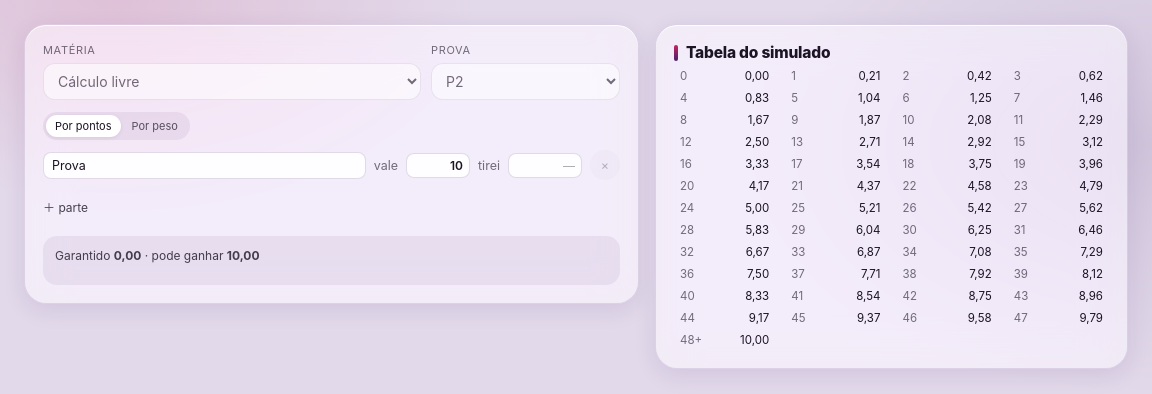
it: Calculadora page › peso mode: message uses %, nota 0-10 converts to points, needs are capped
Step 1. Click the button "Por peso" → (155, 126), box x1=122 y1=115 x2=187 y2=137
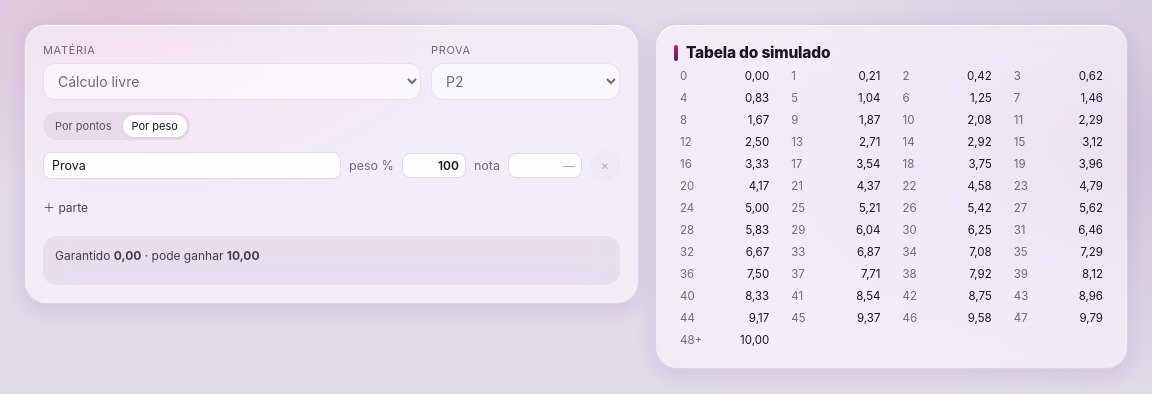
Expected: the field named "Peso da parte 1" holds "100"
Step 2. Replace the text in the field named "Peso da parte 1" with "60" → (434, 165), box x1=402 y1=152 x2=466 y2=178
Step 3. Leave the field named "Peso da parte 1", box x1=402 y1=152 x2=466 y2=178
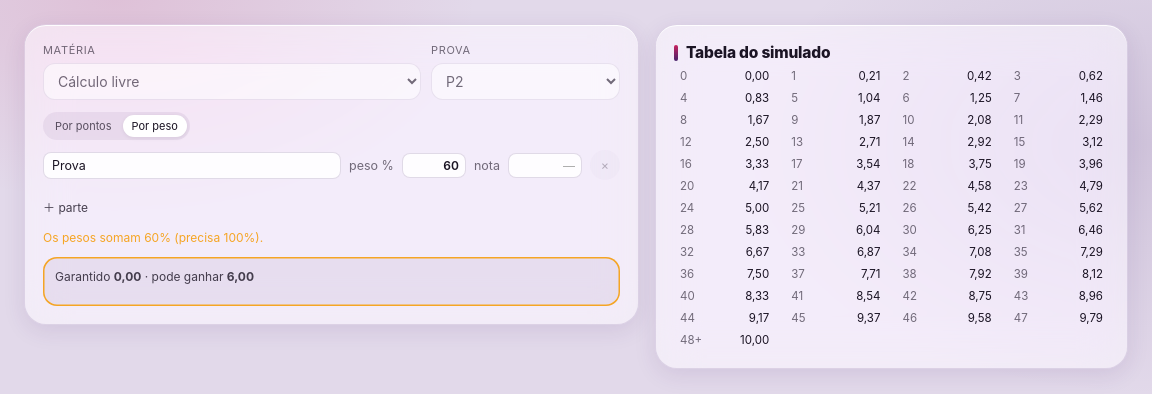
Expected: the message reads "Os pesos somam 60% (precisa 100%).", x1=43 y1=230 x2=263 y2=245
Step 4. Click the button "＋ parte" → (66, 206), box x1=43 y1=188 x2=88 y2=224
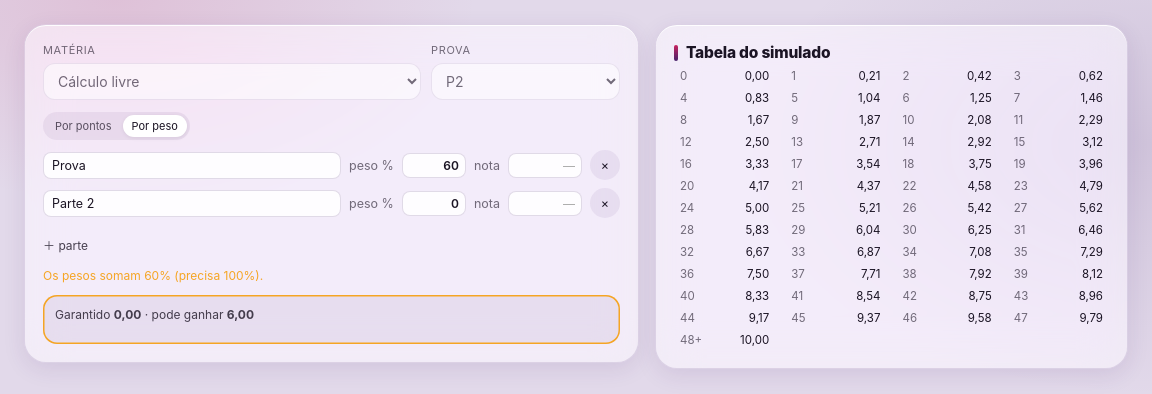
Step 5. Replace the text in the field named "Peso da parte 2" with "40" → (434, 203), box x1=402 y1=190 x2=466 y2=216
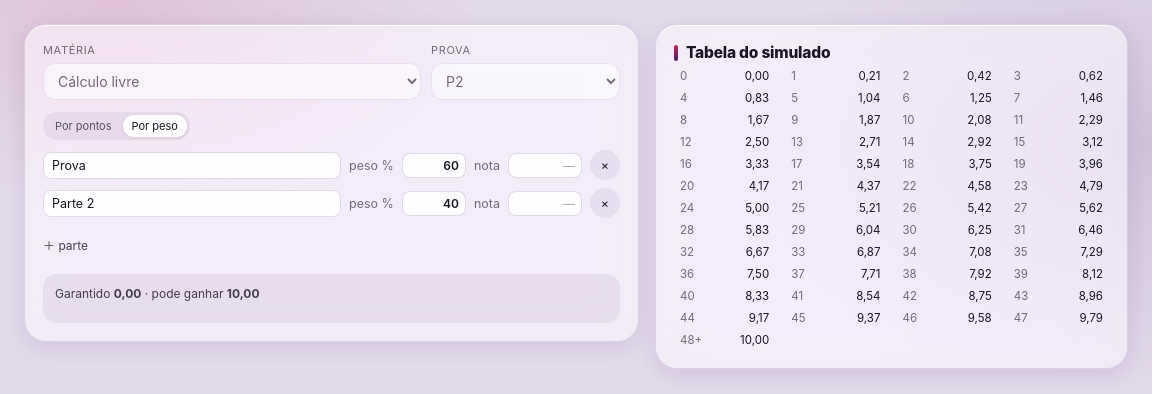
Step 6. Type "5" into the field named "Nota na parte 1" → (545, 165), box x1=508 y1=152 x2=582 y2=178
Step 7. Type "15" into the field named "Nota na parte 2" → (545, 203), box x1=508 y1=190 x2=582 y2=216
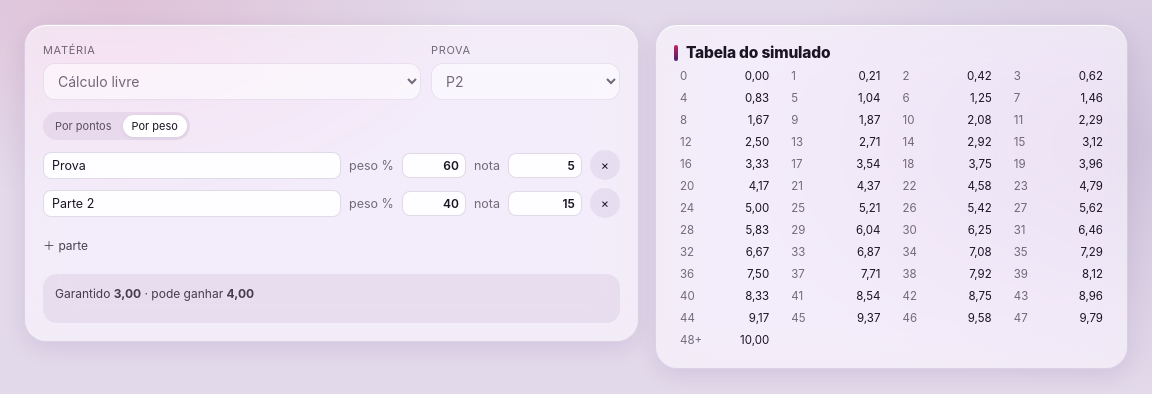
Step 8. Leave the field named "Nota na parte 2", box x1=508 y1=190 x2=582 y2=216
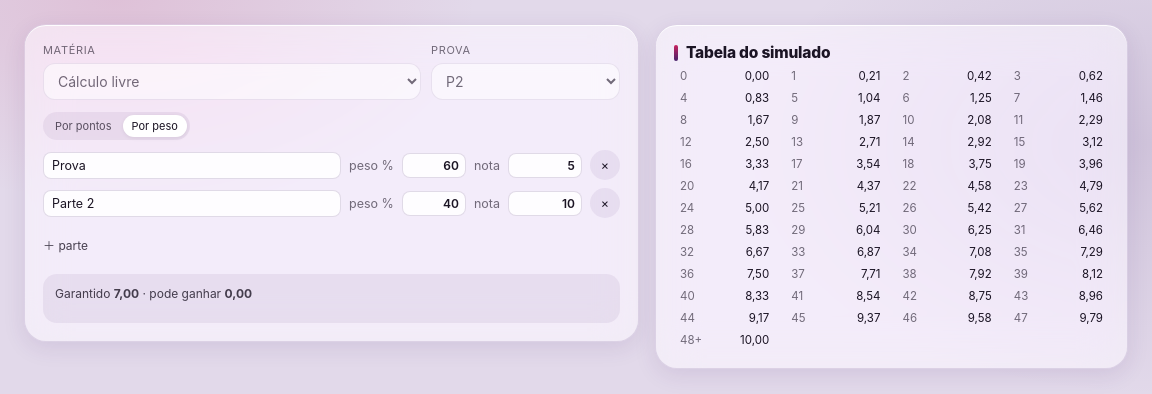
Expected: the element with class "result" shows "Garantido 7,00", x1=43 y1=274 x2=620 y2=323
